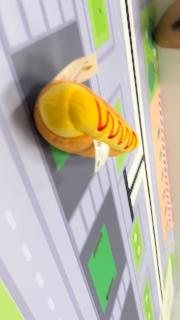hotdog: (34, 80, 140, 158)
